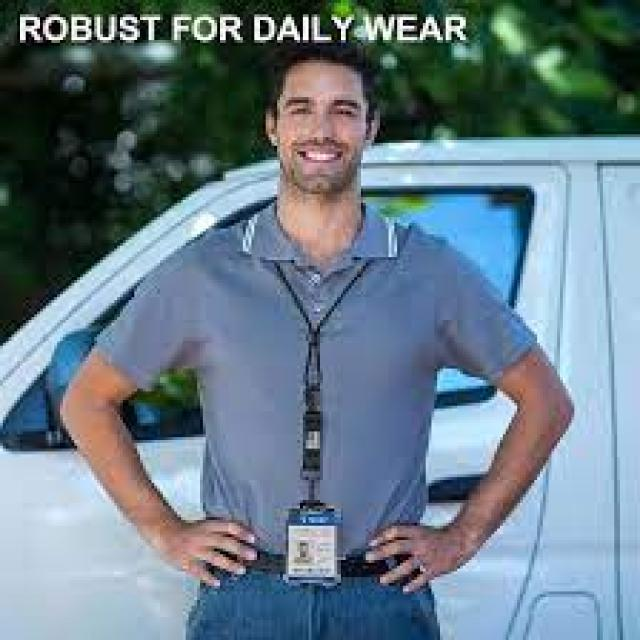id_card: (276, 267, 361, 606)
